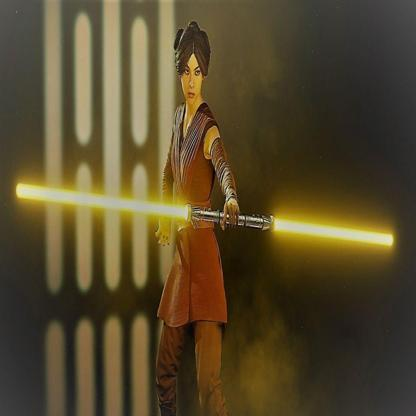lightsaber: (15, 181, 395, 247)
person: (141, 18, 242, 416)
